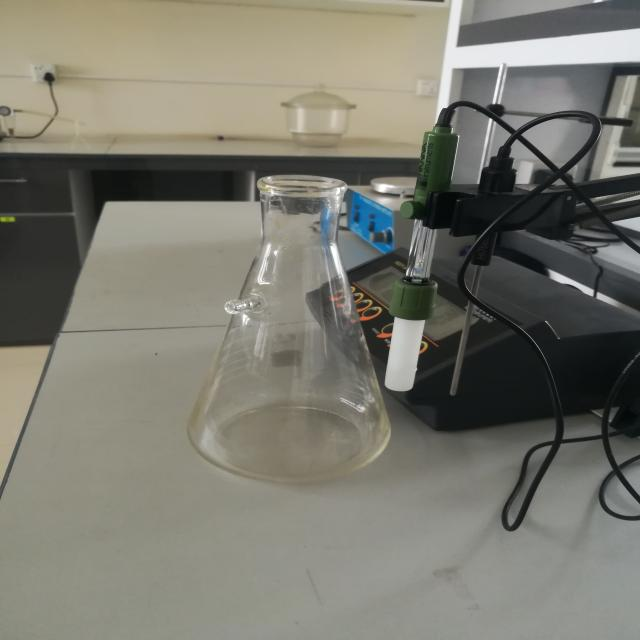Conical_Flask: (149, 138, 423, 512)
